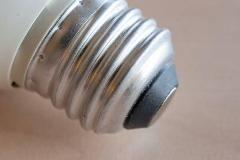lightbulb: (1, 0, 179, 134)
